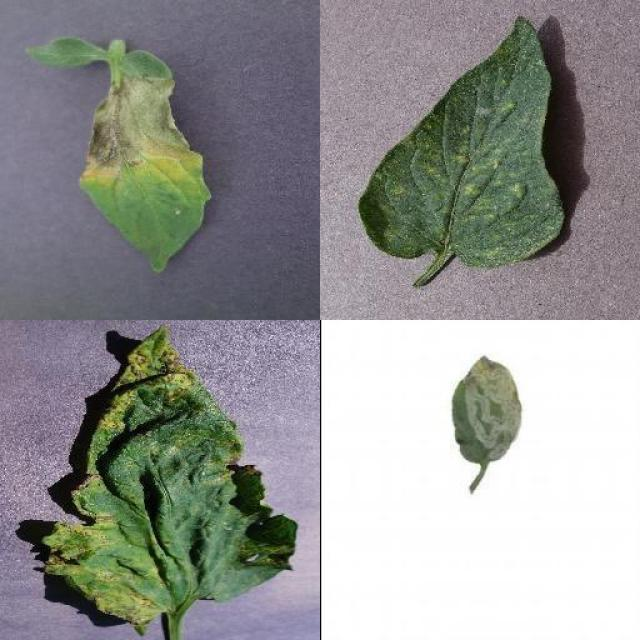Late Blight: (21, 35, 214, 277)
Septoria: (42, 325, 300, 624)
